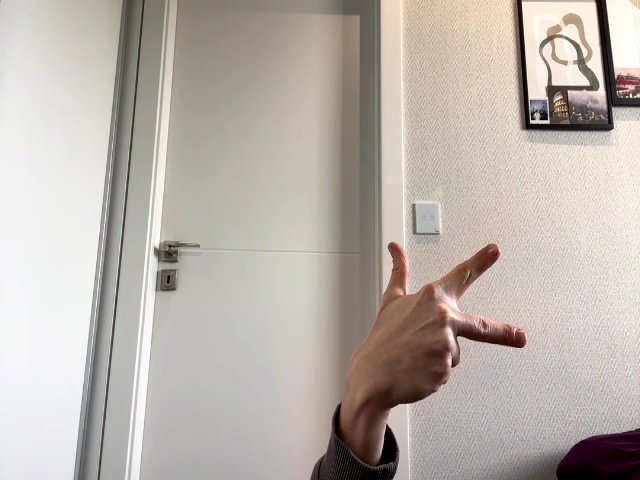K: (369, 241, 527, 415)
